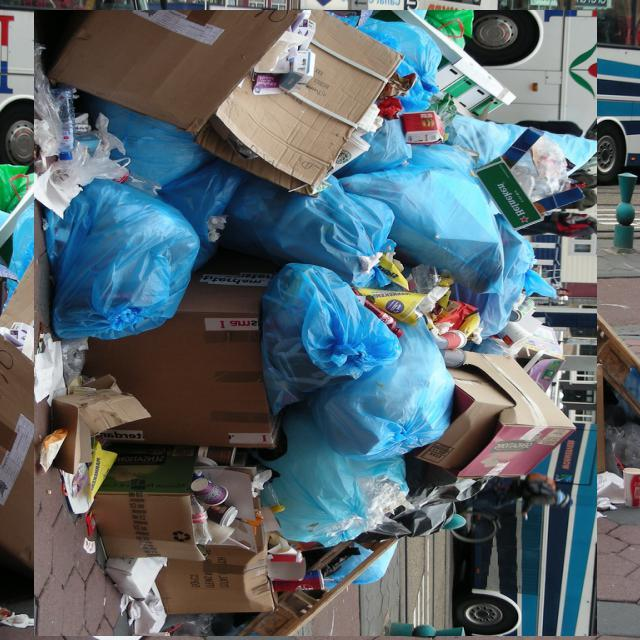Single-layer Plastic: (52, 180, 200, 339), (262, 404, 409, 546), (340, 164, 504, 291), (262, 265, 401, 413), (311, 320, 454, 459), (220, 176, 394, 286), (80, 94, 212, 186), (359, 18, 441, 112)
